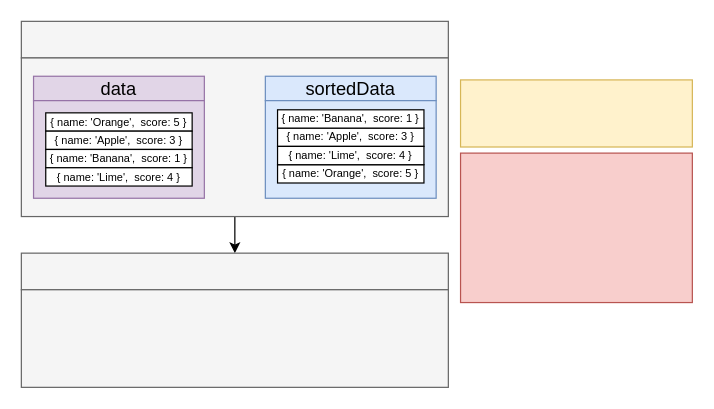
Image size: 714x409. Some labels were removed from this diagram. Here are the shapes that lost their labels. From the top down, the centre of each, then its label:
At point (234, 39): "TablePage".
At point (575, 113): "Option for table state Store the sorted array as state".
At point (575, 227): "Almost never a good idea".
At point (234, 271): "Table".
